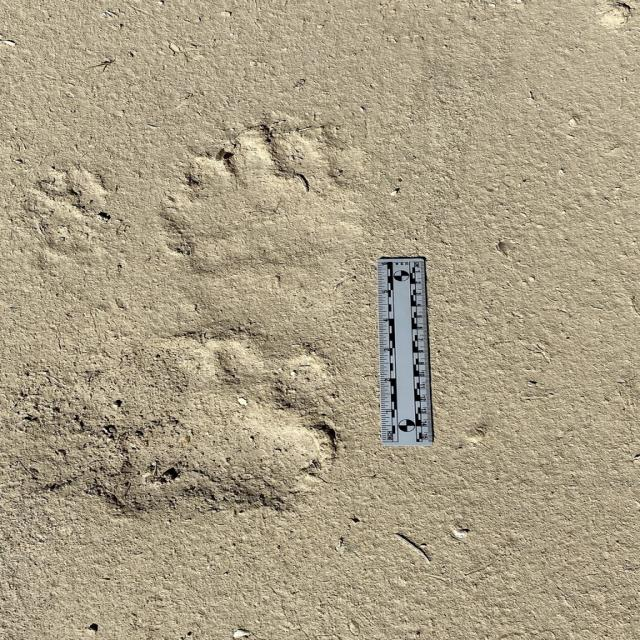bear: (125, 334, 328, 511), (173, 132, 345, 276)
